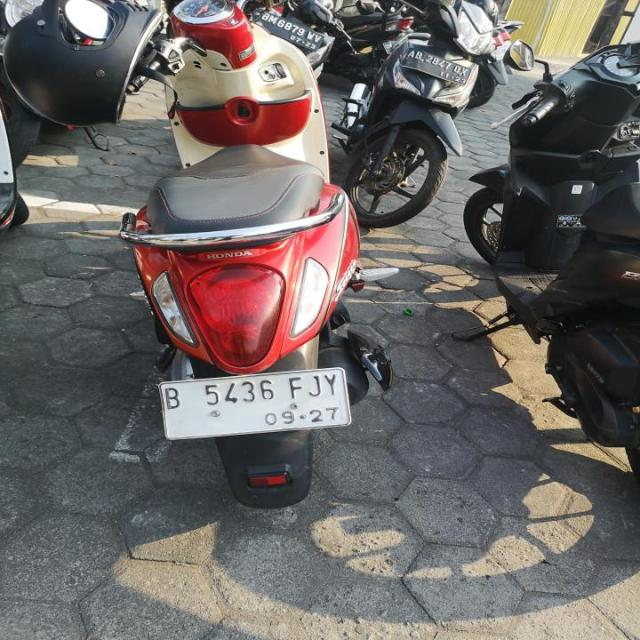License Plate: (156, 366, 357, 442), (254, 9, 325, 53), (400, 46, 472, 88)
